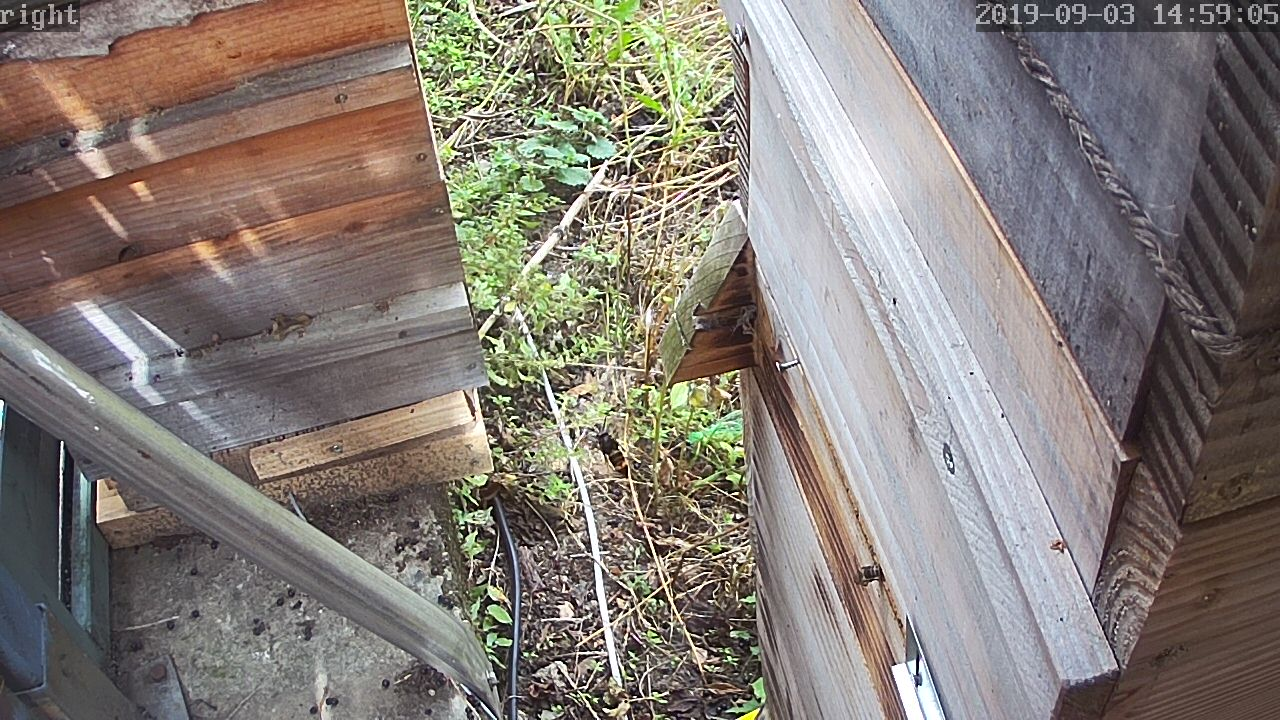bee: (850, 559, 883, 594)
hornet: (590, 429, 636, 481)
